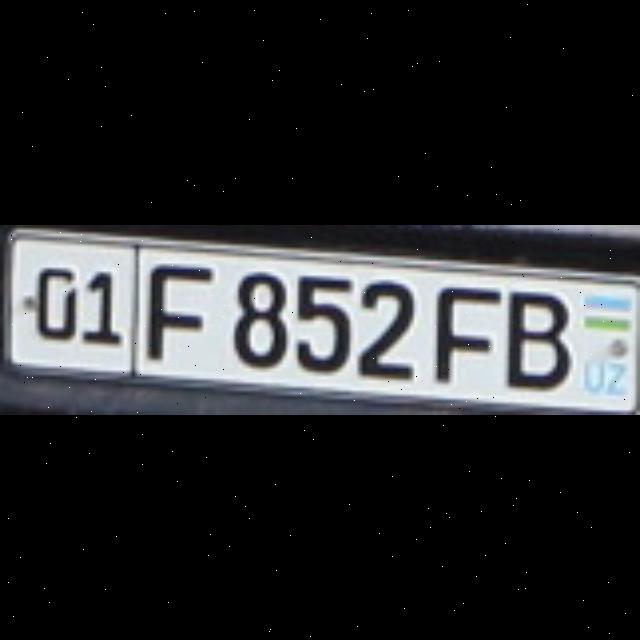0: (36, 265, 72, 333)
1: (79, 265, 115, 341)
2: (354, 276, 410, 376)
5: (294, 272, 350, 368)
8: (230, 268, 282, 364)
B: (505, 288, 569, 384)
F: (147, 260, 211, 360), (433, 280, 493, 376)
